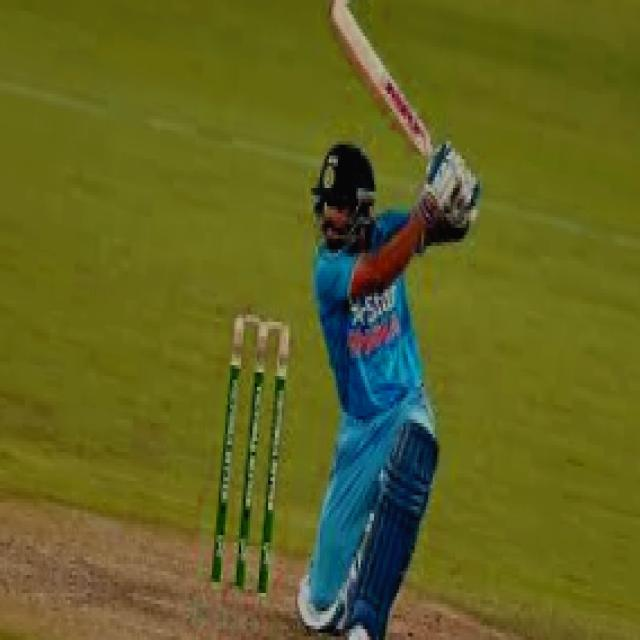toe: (326, 0, 362, 61)
